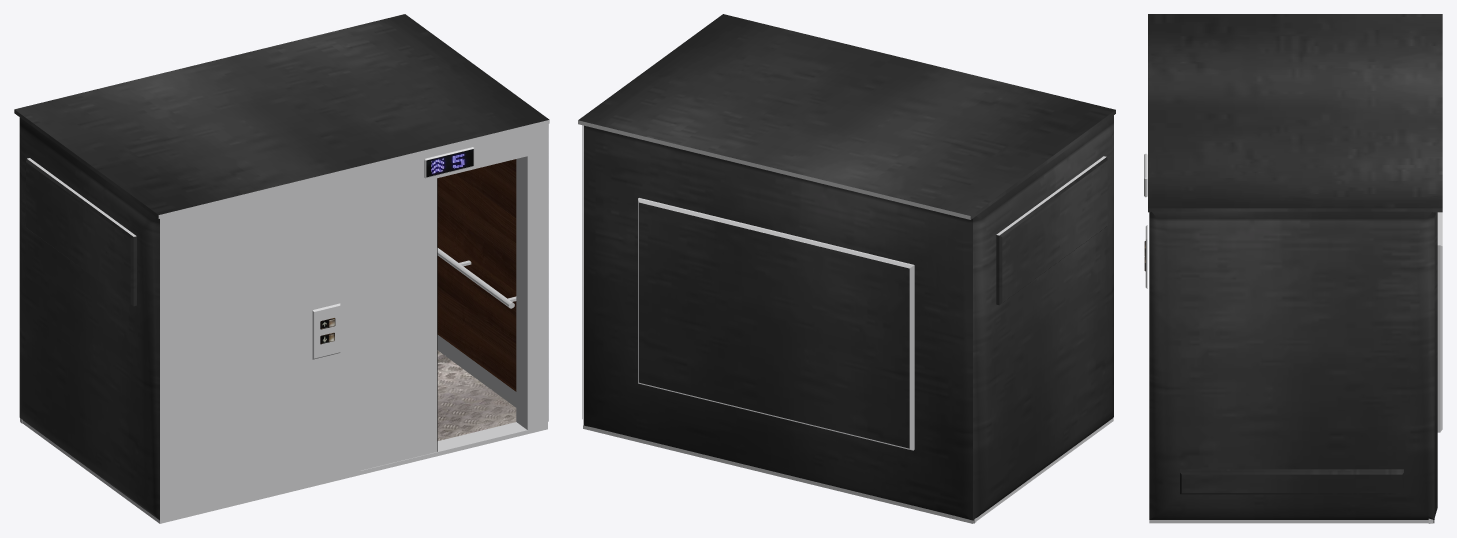
File: lift-cab.efx-v1.glb
The picture shows the model from 3 angles, left to right: view 1: azimuth 30°, elevation 25°; view 2: azimuth 150°, elevation 25°; view 3: azimuth 270°, elevation 25°; orthographic projection.
Parts seen in each view (by area): view 1: Elevator_MetalDark_0, Elevator_ElevatorMetal_0, Door1_ElevatorMetal_0, Elevator_WallsWood_0, Elevator_ElevatorFloor_0, OutsideButtons_ElevatorMetal_0, ScreenOutside_ElevatorScreen_0; view 2: Elevator_MetalDark_0, Elevator_ElevatorMetal_0; view 3: Elevator_MetalDark_0, Elevator_ElevatorMetal_0.
Boxes of the visible parts, left/top/right/bottom form: Elevator_MetalDark_0: left=14, top=14, right=549, bottom=520; Elevator_ElevatorMetal_0: left=20, top=120, right=549, bottom=523; Door1_ElevatorMetal_0: left=360, top=178, right=436, bottom=470; Elevator_WallsWood_0: left=437, top=159, right=516, bottom=391; Elevator_ElevatorFloor_0: left=437, top=350, right=516, bottom=440; OutsideButtons_ElevatorMetal_0: left=312, top=303, right=340, bottom=359; ScreenOutside_ElevatorScreen_0: left=426, top=149, right=473, bottom=177; Elevator_MetalDark_0: left=578, top=14, right=1115, bottom=523; Elevator_ElevatorMetal_0: left=578, top=120, right=1113, bottom=523; Elevator_MetalDark_0: left=1148, top=14, right=1442, bottom=522; Elevator_ElevatorMetal_0: left=1149, top=212, right=1442, bottom=523.
Bounding box in the file's own units: 4.4 × 3.15 × 2.7.
8 materials, 6 textured.
